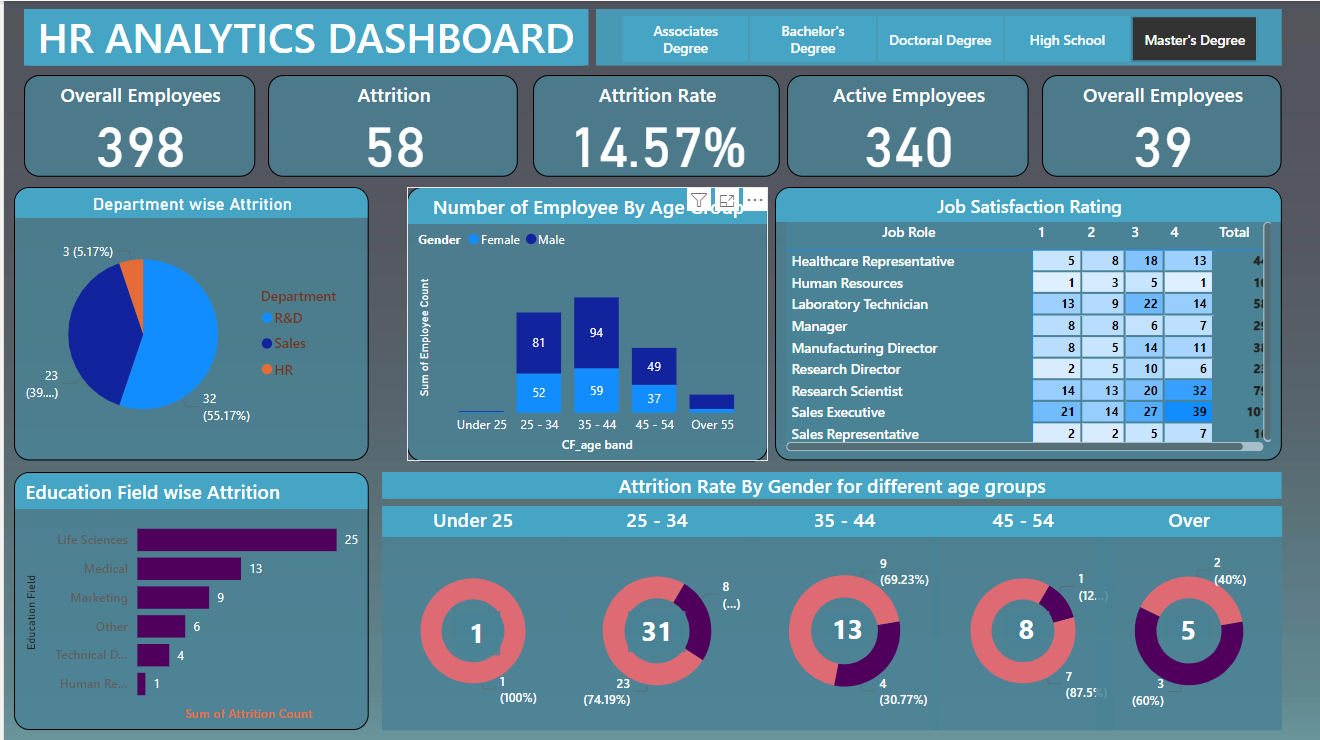

The dashboard page shown, as its layout file describes it:
{"tool":"powerbi","page":{"name":"Page 1","canvas":[1280,720],"ordinal":0},"visuals":[{"type":"card","title":"Overall Employees","fields":{"Values":["Sum(HR data.Employee Count)"]},"box":[19.5,72,224.7,99.2],"z":0},{"type":"card","title":"Attrition","fields":{"Values":["Sum(HR data.Attrition Count)"]},"box":[256.8,72,243.2,99.2],"z":1000},{"type":"card","title":"Attrition Rate","fields":{"Values":["HR data.Attrition Rate"]},"box":[514.5,72,240.2,99.2],"z":2000},{"type":"card","title":"Active Employees","fields":{"Values":["HR data.Active  Employees"]},"box":[761.6,72,235.4,99.2],"z":3000},{"type":"card","title":"Overall Employees","fields":{"Values":["Avg(HR data.Age)"]},"box":[1009.6,72,233.4,99.2],"z":4000},{"type":"pieChart","title":"Department wise Attrition","fields":{"Category":["HR data.Department"],"Y":["Sum(HR data.Attrition Count)"]},"box":[9.7,180.9,345.3,265.5],"z":5000},{"type":"columnChart","title":"Number of Employee By Age Group","fields":{"Category":["HR data.CF_age band"],"Y":["Sum(HR data.Employee Count)"],"Series":["HR data.Gender"]},"box":[392,180.9,351.1,266.5],"z":6000},{"type":"pivotTable","title":"Job Satisfaction Rating","fields":{"Rows":["HR data.Job Role"],"Columns":["HR data.Job Satisfaction"],"Values":["Sum(HR data.Employee Count)"]},"box":[749.9,180.9,493.1,265.5],"z":7000},{"type":"barChart","title":"Education Field wise Attrition","fields":{"Category":["HR data.Education Field"],"Y":["Sum(HR data.Attrition Count)"]},"box":[9.7,458.1,345.3,250.9],"z":8000},{"type":"donutChart","title":"Under 25","fields":{"Category":["HR data.Gender"],"Y":["Sum(HR data.Attrition Count)"],"Series":["HR data.CF_age band"]},"box":[367.7,491.2,177,217.9],"z":9000},{"type":"textbox","title":"Attrition Rate By Gender for different age groups","box":[367.7,458.1,875.4,26.3],"z":10000},{"type":"donutChart","title":"25 - 34","fields":{"Category":["HR data.Gender"],"Y":["Sum(HR data.Attrition Count)"],"Series":["HR data.CF_age band"]},"box":[544.7,491.2,180.9,217.9],"z":11000},{"type":"donutChart","title":"35 - 44","fields":{"Category":["HR data.Gender"],"Y":["Sum(HR data.Attrition Count)"],"Series":["HR data.CF_age band"]},"box":[725.6,491.2,183.8,217.9],"z":12000},{"type":"donutChart","title":"45 - 54","fields":{"Category":["HR data.Gender"],"Y":["Sum(HR data.Attrition Count)"],"Series":["HR data.CF_age band"]},"box":[902.6,491.2,177,217.9],"z":13000},{"type":"donutChart","title":"Over ","fields":{"Category":["HR data.Gender"],"Y":["Sum(HR data.Attrition Count)"],"Series":["HR data.CF_age band"]},"box":[1062.1,491.2,180.9,217.9],"z":14000},{"type":"card","fields":{"Values":["Sum(HR data.Attrition Count)"]},"box":[437.7,593.3,44.7,42.8],"z":15000},{"type":"card","fields":{"Values":["Sum(HR data.Attrition Count)"]},"box":[606.9,593.3,56.4,39.9],"z":16000},{"type":"card","fields":{"Values":["Sum(HR data.Attrition Count)"]},"box":[798.5,593.3,43.8,36],"z":17000},{"type":"card","fields":{"Values":["Sum(HR data.Attrition Count)"]},"box":[972.6,593.3,43.8,36],"z":18000},{"type":"card","fields":{"Values":["Sum(HR data.Attrition Count)"]},"box":[1130.2,597.2,43.8,29.2],"z":19000},{"type":"textbox","title":"HR ANALYTICS DASHBOARD","box":[19.5,7.8,548.6,55.4],"z":20000},{"type":"slicer","fields":{"Values":["HR data.Education"]},"box":[575.8,7.8,667.2,55.4],"z":21000}]}

Visuals, with their boxes in screenshot pixels (x1, y1, x2, y2), scaled from the page's 1280x720 canvas onto the 1320x740 screenshot:
"Overall Employees" card: [20, 74, 252, 176]
"Attrition" card: [265, 74, 516, 176]
"Attrition Rate" card: [531, 74, 778, 176]
"Active Employees" card: [785, 74, 1028, 176]
"Overall Employees" card: [1041, 74, 1282, 176]
"Department wise Attrition" pieChart: [10, 186, 366, 459]
"Number of Employee By Age Group" columnChart: [404, 186, 766, 460]
"Job Satisfaction Rating" pivotTable: [773, 186, 1282, 459]
"Education Field wise Attrition" barChart: [10, 471, 366, 729]
"Under 25" donutChart: [379, 505, 562, 729]
"Attrition Rate By Gender for different age groups" textbox: [379, 471, 1282, 498]
"25 - 34" donutChart: [562, 505, 748, 729]
"35 - 44" donutChart: [748, 505, 938, 729]
"45 - 54" donutChart: [931, 505, 1113, 729]
"Over " donutChart: [1095, 505, 1282, 729]
card - Sum(HR data.Attrition Count): [451, 610, 497, 654]
card - Sum(HR data.Attrition Count): [626, 610, 684, 651]
card - Sum(HR data.Attrition Count): [823, 610, 869, 647]
card - Sum(HR data.Attrition Count): [1003, 610, 1048, 647]
card - Sum(HR data.Attrition Count): [1166, 614, 1211, 644]
"HR ANALYTICS DASHBOARD" textbox: [20, 8, 586, 65]
slicer - HR data.Education: [594, 8, 1282, 65]
